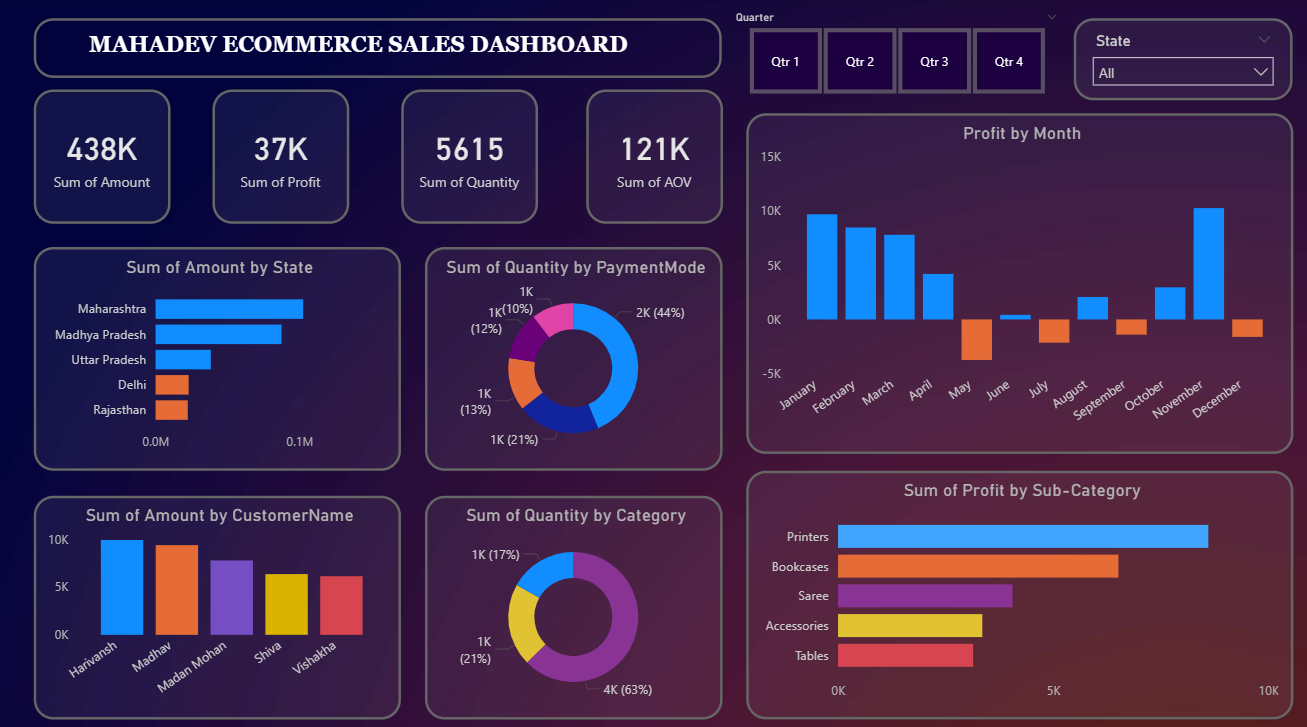

Layout of this report page (visuals, bound fields, positions):
{"tool":"powerbi","page":{"name":"Page 1","canvas":[1280,720],"ordinal":0},"visuals":[{"type":"textbox","box":[37.7,20.2,664.4,57.9],"z":0},{"type":"columnChart","title":"Profit by Month","fields":{"Y":["Sum(Details.Profit)"],"Category":["Orders.Order Date.Variation.Date Hierarchy.Month"]},"box":[725,111.9,528.3,328.8],"z":1000},{"type":"barChart","fields":{"Category":["Details.Sub-Category"],"Y":["Sum(Details.Profit)"]},"box":[725,456.9,528.3,239.9],"z":2000},{"type":"donutChart","fields":{"Y":["Sum(Details.Quantity)"],"Category":["Details.Category"]},"box":[415.1,481.1,287.1,215.6],"z":3000},{"type":"donutChart","fields":{"Y":["Sum(Details.Quantity)"],"Category":["Details.PaymentMode"]},"box":[415.1,241.2,287.1,215.6],"z":4000},{"type":"card","fields":{"Values":["Sum(Details.Amount)"]},"box":[37.7,88.9,132.1,129.4],"z":5000},{"type":"card","fields":{"Values":["Sum(Details.Quantity)"]},"box":[392.2,88.9,132.1,129.4],"z":6000},{"type":"card","fields":{"Values":["Sum(Details.Profit)"]},"box":[210.2,88.9,132.1,129.4],"z":7000},{"type":"card","fields":{"Values":["Sum(Details.AOV)"]},"box":[570.1,88.9,132.1,129.4],"z":8000},{"type":"barChart","fields":{"Y":["Sum(Details.Amount)"],"Category":["Orders.State"]},"box":[37.7,241.2,354.4,215.6],"z":9000},{"type":"columnChart","fields":{"Category":["Orders.CustomerName"],"Y":["Sum(Details.Amount)"]},"box":[37.7,481.1,354.4,215.6],"z":10000},{"type":"slicer","fields":{"Values":["Orders.State"]},"box":[1041.7,20.2,211.6,79.5],"z":11000},{"type":"slicer","fields":{"Values":["Orders.Order Date.Variation.Date Hierarchy.Quarter"]},"box":[702.1,8.1,335.6,91.6],"z":12000}]}

Visuals, with their boxes in screenshot pixels (x1, y1, x2, y2), scaled from the page's 1280x720 canvas onto the 1307x727 screenshot:
textbox: crop(38, 20, 717, 79)
"Profit by Month" columnChart: crop(740, 113, 1280, 445)
barChart - Details.Sub-Category x Sum(Details.Profit): crop(740, 461, 1280, 704)
donutChart - Sum(Details.Quantity) x Details.Category: crop(424, 486, 717, 703)
donutChart - Sum(Details.Quantity) x Details.PaymentMode: crop(424, 244, 717, 461)
card - Sum(Details.Amount): crop(38, 90, 173, 220)
card - Sum(Details.Quantity): crop(400, 90, 535, 220)
card - Sum(Details.Profit): crop(215, 90, 350, 220)
card - Sum(Details.AOV): crop(582, 90, 717, 220)
barChart - Sum(Details.Amount) x Orders.State: crop(38, 244, 400, 461)
columnChart - Orders.CustomerName x Sum(Details.Amount): crop(38, 486, 400, 703)
slicer - Orders.State: crop(1064, 20, 1280, 101)
slicer - Orders.Order Date.Variation.Date Hierarchy.Quarter: crop(717, 8, 1060, 101)
